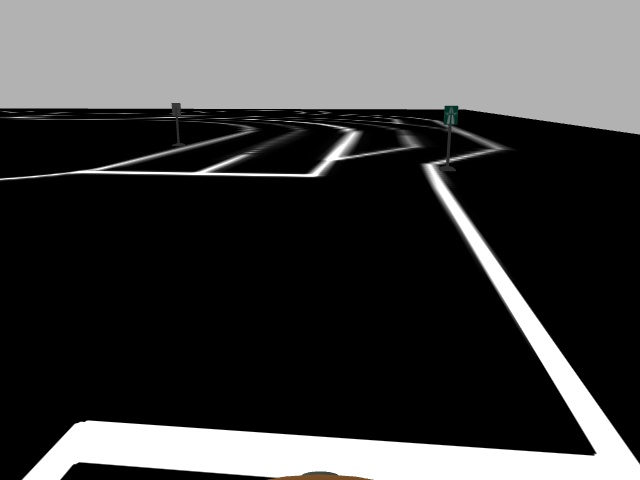enter_highway: (441, 105, 458, 125)
